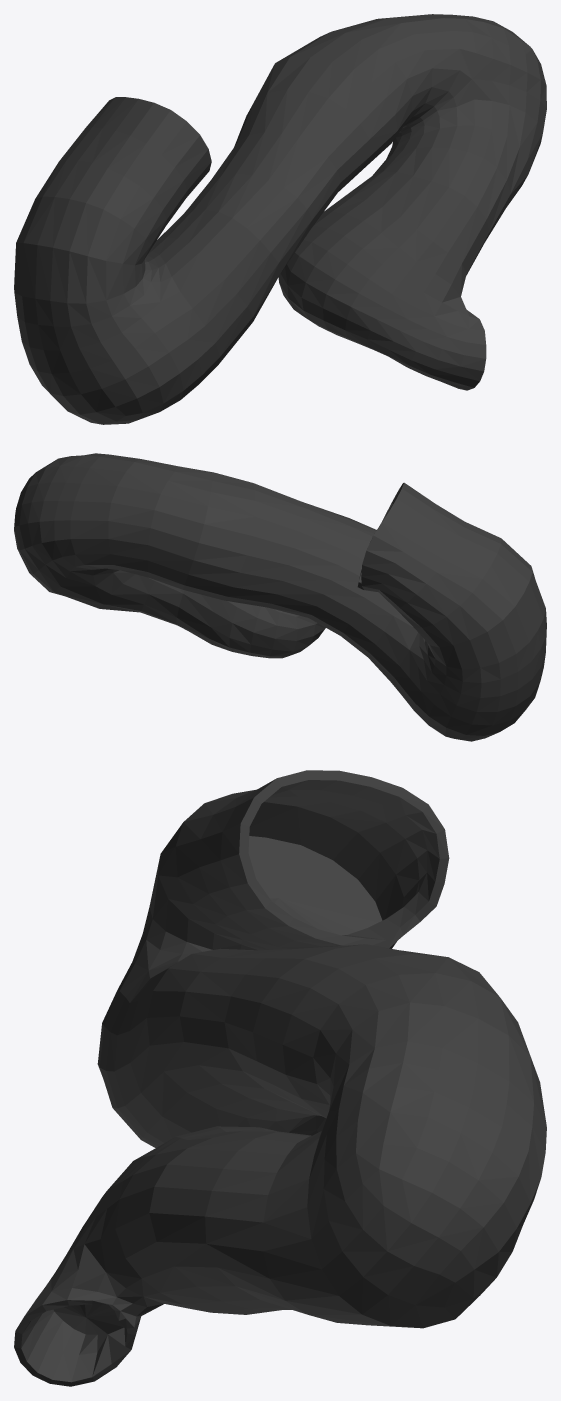
Rendered from colon_ascending_LP.glb.
3 views of the same model, one above another, from view 1: azimuth 30°, elevation 25°; view 2: azimuth 150°, elevation 25°; view 3: azimuth 270°, elevation 25° (orthographic). The views are drawn at different scales.
Parts seen in each view (by area): view 1: colon_ascending_LP; view 2: colon_ascending_LP; view 3: colon_ascending_LP.
Boxes of the visible parts, bbox=[...] form: colon_ascending_LP: bbox=[14, 14, 546, 424]; colon_ascending_LP: bbox=[14, 453, 546, 741]; colon_ascending_LP: bbox=[14, 770, 546, 1386].
Bounding box in the file's own units: 2.29 × 1.12 × 1.22.
Materials: 1 (1 with a texture image).
